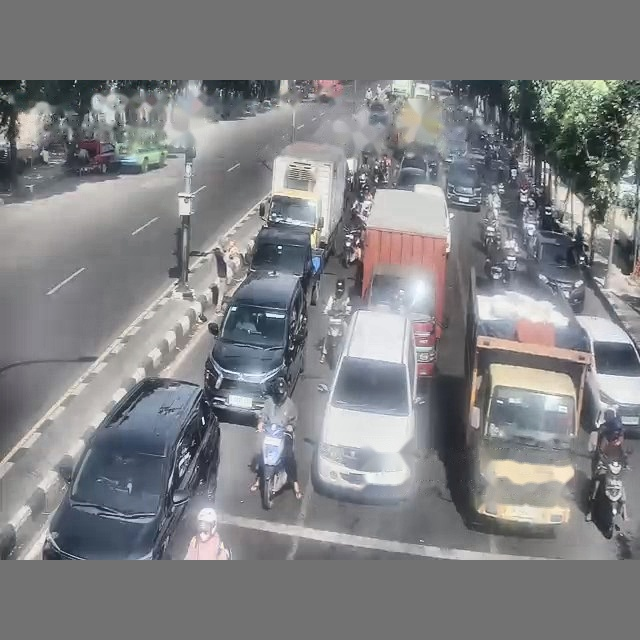Mobil: (42, 378, 219, 559), (312, 309, 421, 498), (204, 272, 307, 416), (577, 315, 639, 433), (249, 226, 318, 304), (527, 231, 585, 312), (414, 185, 452, 255), (446, 159, 482, 210), (394, 167, 428, 190), (168, 131, 196, 157), (400, 152, 427, 171), (369, 101, 388, 124), (242, 100, 258, 116)
Motor: (259, 424, 293, 509), (594, 457, 625, 538), (325, 310, 347, 369)
Truk: (462, 269, 591, 528), (362, 190, 448, 383), (260, 142, 347, 264)
